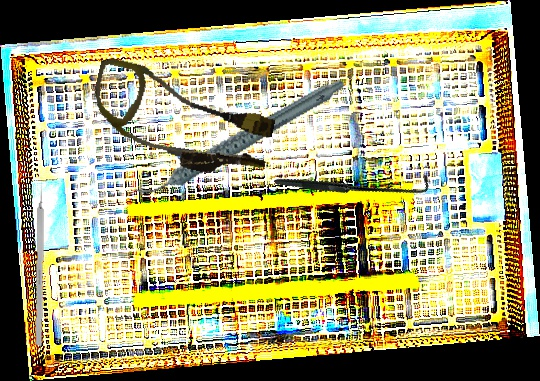Cannula: (82, 55, 281, 186)
Handpiece: (120, 77, 359, 199)
Hook Surgical: (273, 101, 434, 263), (35, 175, 45, 346)
